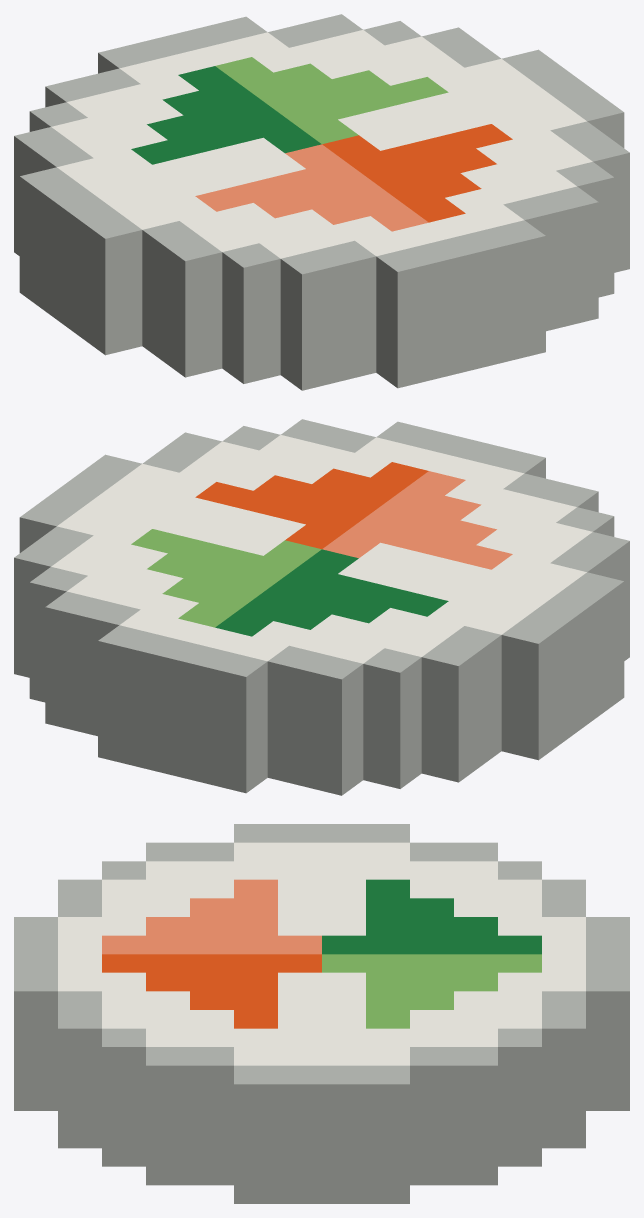
The model's file is data_switching_button.fbx.
The picture shows the model from 3 angles, top to bottom: view 1: azimuth 30°, elevation 25°; view 2: azimuth 150°, elevation 25°; view 3: azimuth 270°, elevation 25°; orthographic projection. The views are drawn at different scales.
Visible parts, largest first — view 1: data_switching_button; view 2: data_switching_button; view 3: data_switching_button.
Boxes of the visible parts, x1,y1,x2,y2 form: data_switching_button: (14,14,629,390); data_switching_button: (14,419,629,795); data_switching_button: (14,824,629,1203).
Bounding box in the file's own units: 1.4 × 0.3 × 1.4.
Materials: 1 (1 with a texture image).
